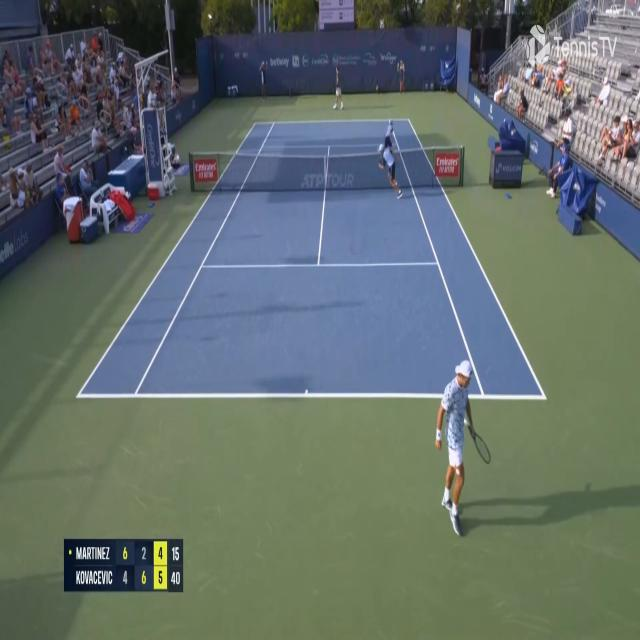tennis-player: (433, 357, 492, 540), (331, 62, 344, 111)
